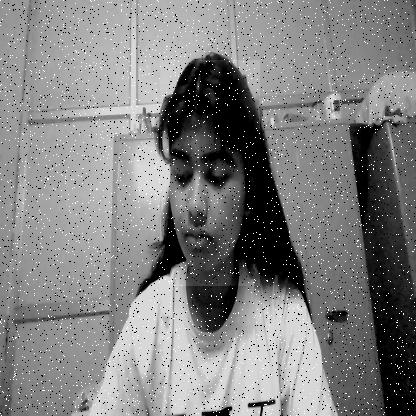Distracted: (160, 60, 260, 286)
